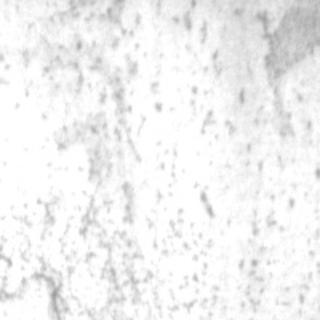pitted_surface: (7, 10, 314, 316)
